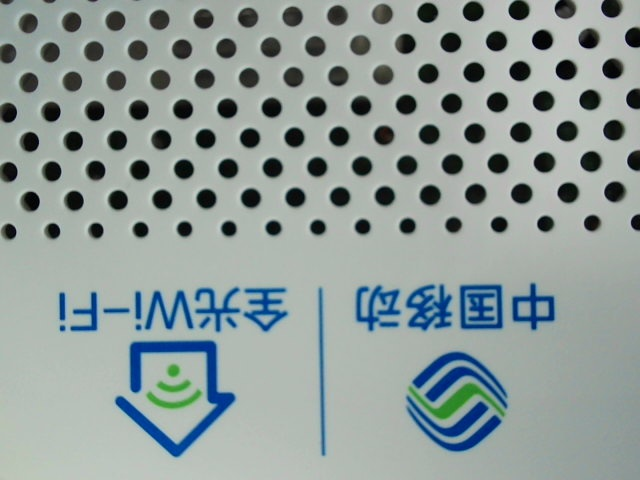BJ_QuanGuangMobile: (47, 268, 562, 460)
